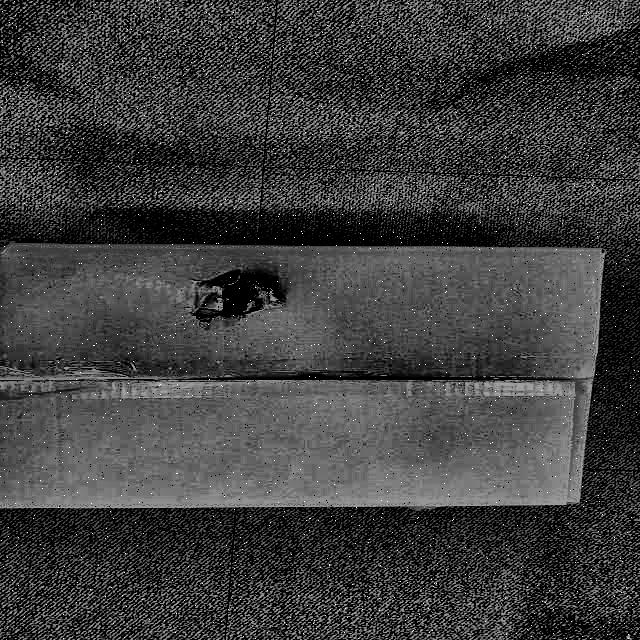box: (0, 233, 612, 515)
hole: (188, 270, 288, 326)
